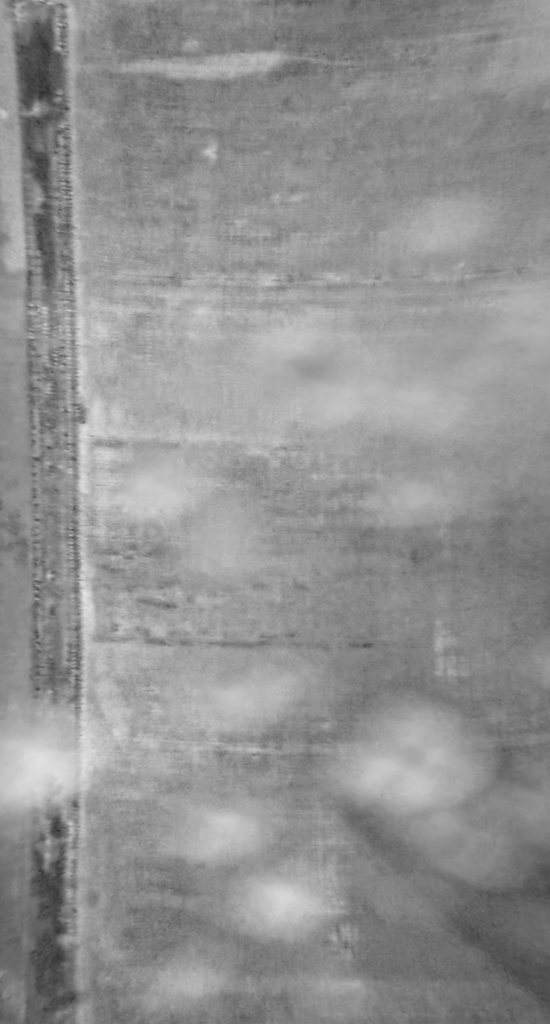splice: (8, 1, 105, 1022)
